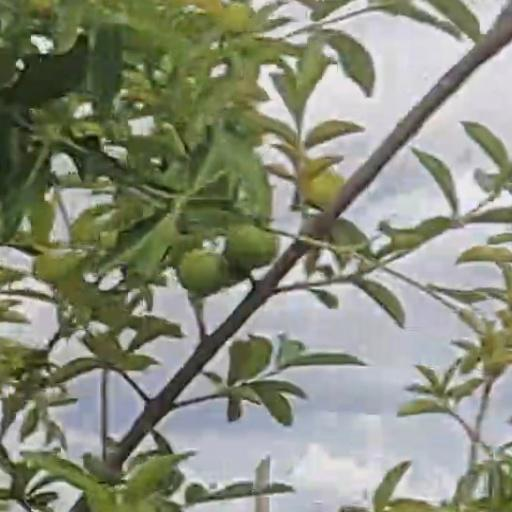acerola_verde: (226, 224, 274, 267), (179, 252, 226, 289)
